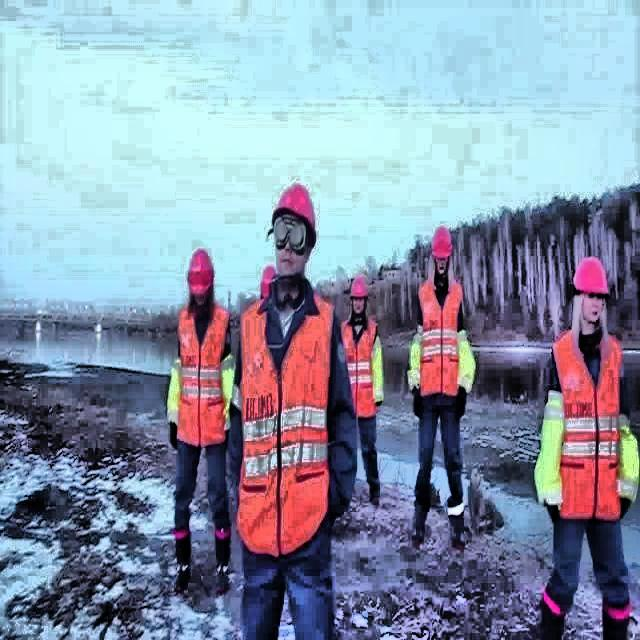safety_jacket: (238, 292, 334, 558), (550, 328, 624, 520), (177, 298, 230, 445), (419, 276, 465, 394), (340, 316, 380, 418)
